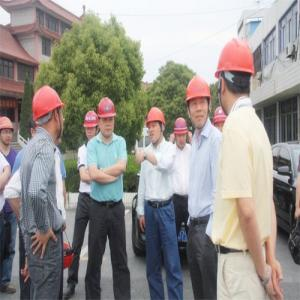red: (218, 39, 254, 115), (32, 85, 67, 139), (186, 75, 213, 131), (148, 108, 168, 145), (98, 96, 116, 137), (173, 116, 190, 153), (83, 110, 100, 142), (212, 105, 229, 134), (9, 117, 15, 148)
